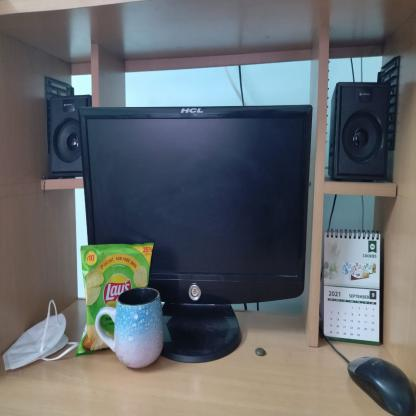cream_and_onion: (76, 244, 152, 355)
